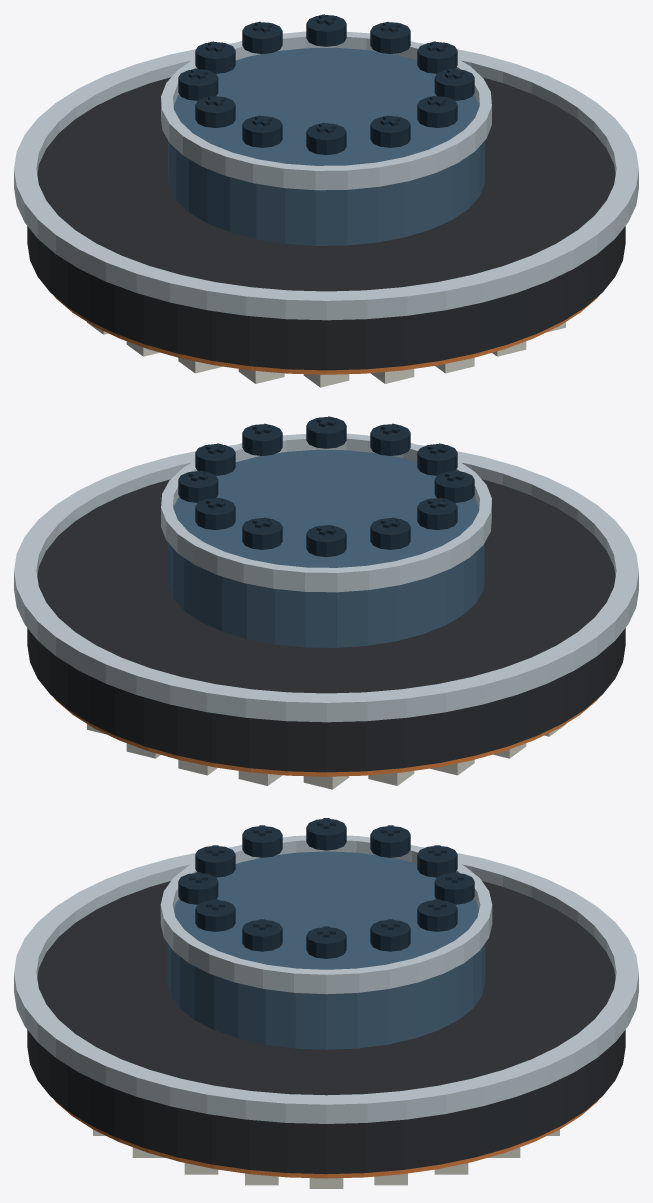
File: 24_L73_PadConditionerAbrasiveDisc.fbx
The picture shows the model from 3 angles, top to bottom: view 1: azimuth 30°, elevation 25°; view 2: azimuth 150°, elevation 25°; view 3: azimuth 270°, elevation 25°; orthographic projection.
Parts seen in each view (by area): view 1: PadConditionerAbrasiveDisc_Part_0000, PadConditionerAbrasiveDisc_Part_0003, PadConditionerAbrasiveDisc_Part_0001, PadConditionerAbrasiveDisc_Part_0004, PadConditionerAbrasiveDisc_Part_0002, PadConditionerAbrasiveDisc_Part_0044, PadConditionerAbrasiveDisc_Part_0059, PadConditionerAbrasiveDisc_Part_0038, PadConditionerAbrasiveDisc_Part_0050, PadConditionerAbrasiveDisc_Part_0065, PadConditionerAbrasiveDisc_Part_0041, PadConditionerAbrasiveDisc_Part_0062 (+5 smaller); view 2: PadConditionerAbrasiveDisc_Part_0000, PadConditionerAbrasiveDisc_Part_0003, PadConditionerAbrasiveDisc_Part_0001, PadConditionerAbrasiveDisc_Part_0004, PadConditionerAbrasiveDisc_Part_0002, PadConditionerAbrasiveDisc_Part_0056, PadConditionerAbrasiveDisc_Part_0041, PadConditionerAbrasiveDisc_Part_0035, PadConditionerAbrasiveDisc_Part_0050, PadConditionerAbrasiveDisc_Part_0062, PadConditionerAbrasiveDisc_Part_0038, PadConditionerAbrasiveDisc_Part_0059 (+5 smaller); view 3: PadConditionerAbrasiveDisc_Part_0000, PadConditionerAbrasiveDisc_Part_0003, PadConditionerAbrasiveDisc_Part_0001, PadConditionerAbrasiveDisc_Part_0004, PadConditionerAbrasiveDisc_Part_0002, PadConditionerAbrasiveDisc_Part_0032, PadConditionerAbrasiveDisc_Part_0047, PadConditionerAbrasiveDisc_Part_0053, PadConditionerAbrasiveDisc_Part_0035, PadConditionerAbrasiveDisc_Part_0038, PadConditionerAbrasiveDisc_Part_0062, PadConditionerAbrasiveDisc_Part_0065 (+5 smaller).
Part boxes in pixels (x1,y1,x2,y2): PadConditionerAbrasiveDisc_Part_0000: (27,77,625,370); PadConditionerAbrasiveDisc_Part_0003: (168,47,484,245); PadConditionerAbrasiveDisc_Part_0001: (14,43,638,320); PadConditionerAbrasiveDisc_Part_0004: (161,31,491,190); PadConditionerAbrasiveDisc_Part_0002: (54,296,598,374); PadConditionerAbrasiveDisc_Part_0044: (306,123,346,154); PadConditionerAbrasiveDisc_Part_0059: (242,22,282,53); PadConditionerAbrasiveDisc_Part_0038: (417,96,457,127); PadConditionerAbrasiveDisc_Part_0050: (195,96,235,127); PadConditionerAbrasiveDisc_Part_0065: (370,22,410,53); PadConditionerAbrasiveDisc_Part_0041: (370,116,410,147); PadConditionerAbrasiveDisc_Part_0062: (306,15,346,46); PadConditionerAbrasiveDisc_Part_0000: (27,479,625,772); PadConditionerAbrasiveDisc_Part_0003: (168,449,484,647); PadConditionerAbrasiveDisc_Part_0001: (14,445,638,722); PadConditionerAbrasiveDisc_Part_0004: (161,433,491,592); PadConditionerAbrasiveDisc_Part_0002: (54,698,598,776); PadConditionerAbrasiveDisc_Part_0056: (306,525,346,556); PadConditionerAbrasiveDisc_Part_0041: (370,424,410,455); PadConditionerAbrasiveDisc_Part_0035: (242,424,282,455); PadConditionerAbrasiveDisc_Part_0050: (417,498,457,529); PadConditionerAbrasiveDisc_Part_0062: (195,498,235,529); PadConditionerAbrasiveDisc_Part_0038: (306,417,346,448); PadConditionerAbrasiveDisc_Part_0059: (242,518,282,549); PadConditionerAbrasiveDisc_Part_0000: (27,881,625,1174); PadConditionerAbrasiveDisc_Part_0003: (167,851,485,1049); PadConditionerAbrasiveDisc_Part_0001: (14,847,638,1123); PadConditionerAbrasiveDisc_Part_0004: (160,835,492,994); PadConditionerAbrasiveDisc_Part_0002: (54,1100,598,1178); PadConditionerAbrasiveDisc_Part_0032: (306,927,346,958); PadConditionerAbrasiveDisc_Part_0047: (242,826,282,857); PadConditionerAbrasiveDisc_Part_0053: (370,826,410,857); PadConditionerAbrasiveDisc_Part_0035: (242,920,282,951); PadConditionerAbrasiveDisc_Part_0038: (195,900,235,931); PadConditionerAbrasiveDisc_Part_0062: (417,900,457,931); PadConditionerAbrasiveDisc_Part_0065: (370,920,410,951).
Size of the model in its own units: 102 by 36.1 by 102.
